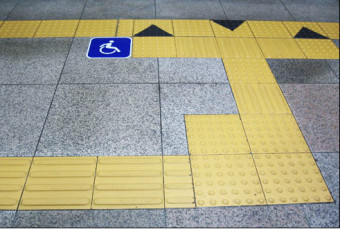guideBlock: (22, 158, 97, 207), (99, 156, 163, 210), (168, 152, 198, 214), (232, 81, 289, 113), (1, 156, 34, 208)
warningBlock: (193, 156, 273, 219), (255, 154, 327, 204), (242, 114, 305, 153), (189, 116, 247, 152), (218, 55, 272, 79), (80, 19, 136, 37), (300, 37, 340, 61), (130, 40, 179, 59), (288, 21, 328, 43), (249, 18, 295, 37), (212, 19, 255, 39), (136, 17, 174, 38), (2, 20, 47, 36), (175, 20, 209, 36), (41, 20, 73, 36)
